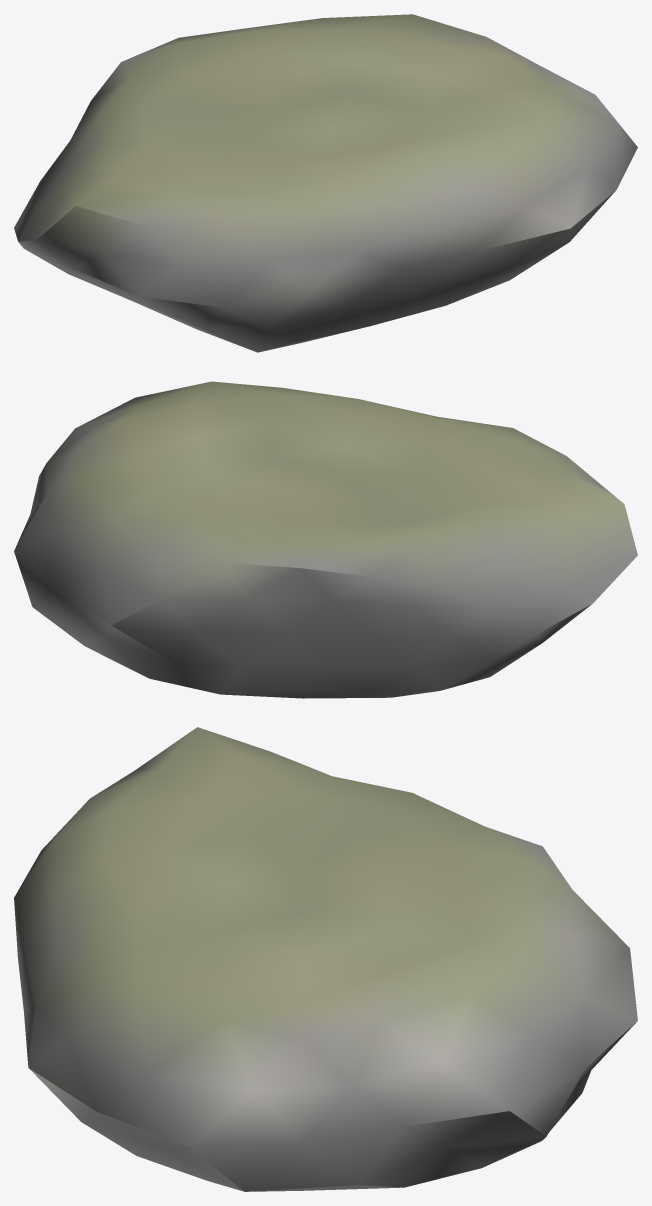
File: Mtn_Slab_B.fbx
The picture shows the model from 3 angles, top to bottom: view 1: azimuth 30°, elevation 25°; view 2: azimuth 150°, elevation 25°; view 3: azimuth 270°, elevation 25°; orthographic projection. The views are drawn at different scales.
Parts seen in each view (by area): view 1: Mtn_Slab_B; view 2: Mtn_Slab_B; view 3: Mtn_Slab_B.
Boxes of the visible parts, x1=… form: Mtn_Slab_B: x1=14, y1=14, x2=637, y2=352; Mtn_Slab_B: x1=14, y1=381, x2=637, y2=698; Mtn_Slab_B: x1=14, y1=727, x2=637, y2=1191.
Bounding box in the file's own units: 5.62 × 1.55 × 4.3.
